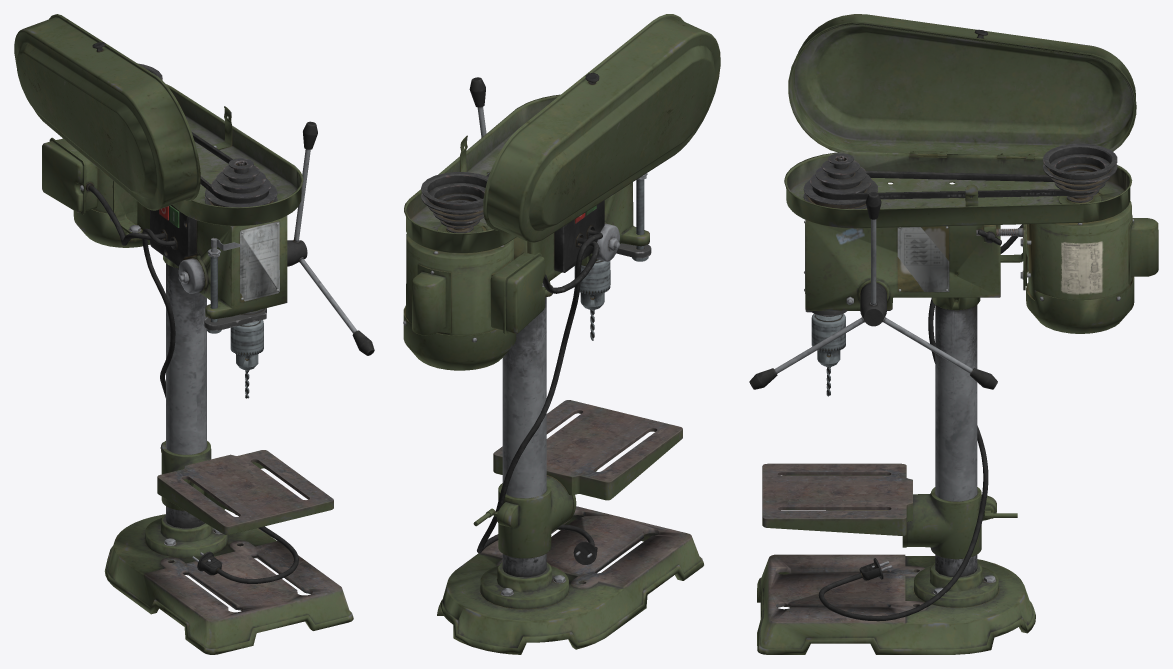
The model's file is press.glb.
3 renders of one model, left to right at view 1: azimuth 30°, elevation 25°; view 2: azimuth 150°, elevation 25°; view 3: azimuth 270°, elevation 25°, orthographic. The views are drawn at different scales.
Visible parts, largest first — view 1: Body, Lid, Plate, Gear_b, Plug, Handle, Limiter, Bit, Belt; view 2: Body, Lid, Plate, Gear_a, Plug, Bit, Limiter, Handle; view 3: Body, Lid, Plate, Handle, Gear_a, Belt, Plug, Gear_b, Bit.
Part boxes in pixels (x1,y1,x2,y2): Body: (42, 84, 353, 654); Lid: (14, 14, 200, 210); Plate: (157, 441, 333, 534); Gear_b: (205, 158, 277, 207); Plug: (142, 228, 298, 583); Handle: (287, 121, 374, 355); Limiter: (204, 238, 266, 333); Bit: (230, 320, 263, 398); Belt: (191, 132, 268, 203); Body: (403, 94, 703, 654); Lid: (483, 14, 720, 242); Plate: (493, 400, 682, 558); Gear_a: (421, 172, 488, 233); Plug: (477, 229, 602, 564); Bit: (574, 260, 610, 340); Limiter: (616, 173, 651, 261); Handle: (469, 77, 489, 173); Body: (757, 151, 1158, 654); Lid: (788, 14, 1136, 159); Plate: (762, 463, 996, 559); Handle: (749, 192, 997, 389); Gear_a: (1042, 143, 1117, 202); Belt: (812, 171, 1095, 199); Plug: (818, 298, 988, 621); Gear_b: (803, 153, 877, 209); Bit: (811, 313, 845, 396).
Size of the model in its own units: 0.3544 by 0.901 by 0.5986.
Materials: 1 (1 with a texture image).
